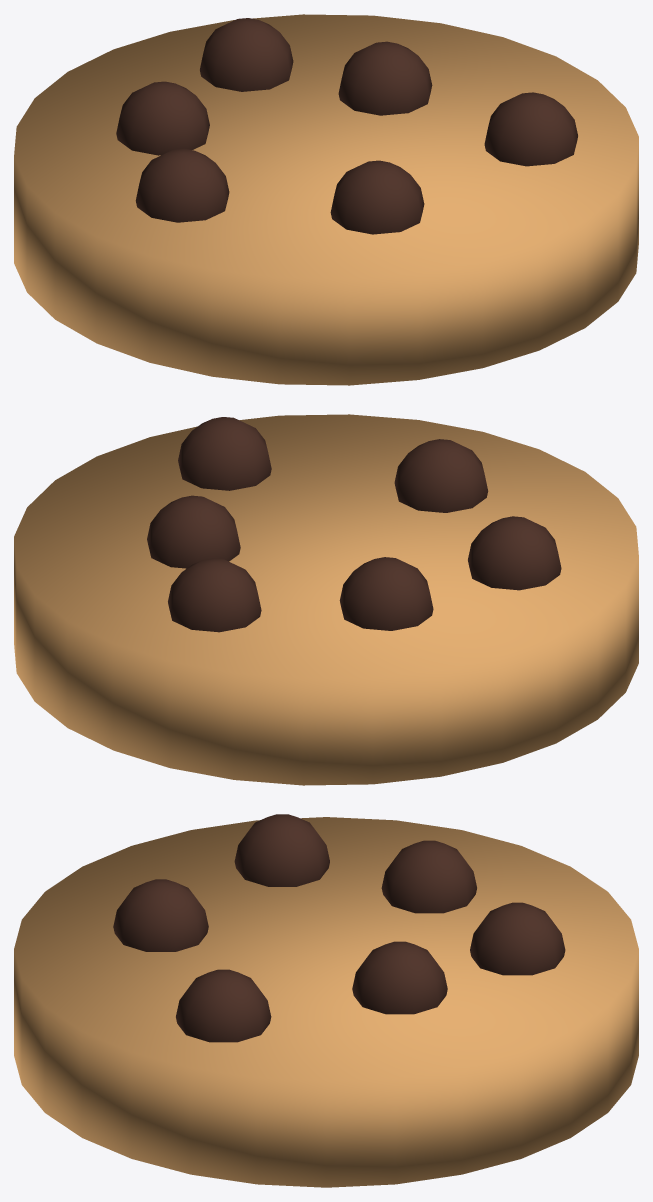
Rendered from cookie.glb.
The picture shows the model from 3 angles, top to bottom: view 1: azimuth 30°, elevation 25°; view 2: azimuth 150°, elevation 25°; view 3: azimuth 270°, elevation 25°; orthographic projection.
Visible parts, largest first — view 1: Cookie; view 2: Cookie; view 3: Cookie.
Part boxes in pixels (x1,y1,x2,y2): Cookie: (14, 14, 638, 385); Cookie: (14, 414, 638, 785); Cookie: (14, 814, 638, 1187).
Bounding box in the file's own units: 0.17 × 0.047 × 0.17.
